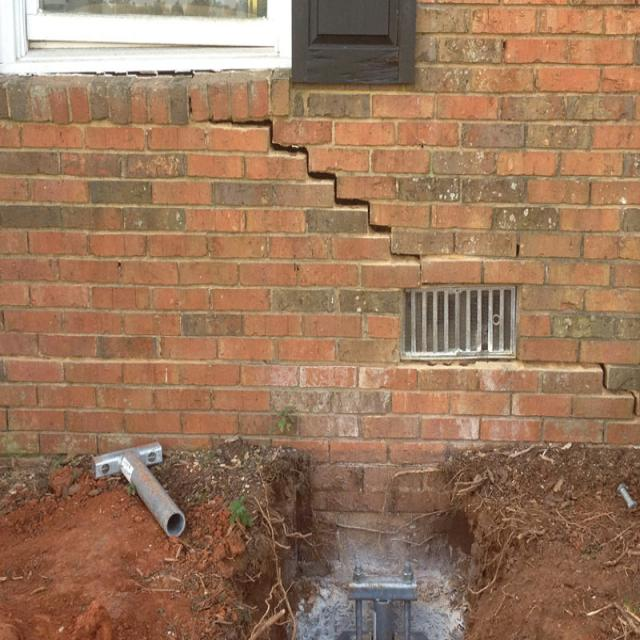Crack: (184, 83, 422, 283), (576, 360, 638, 420)
